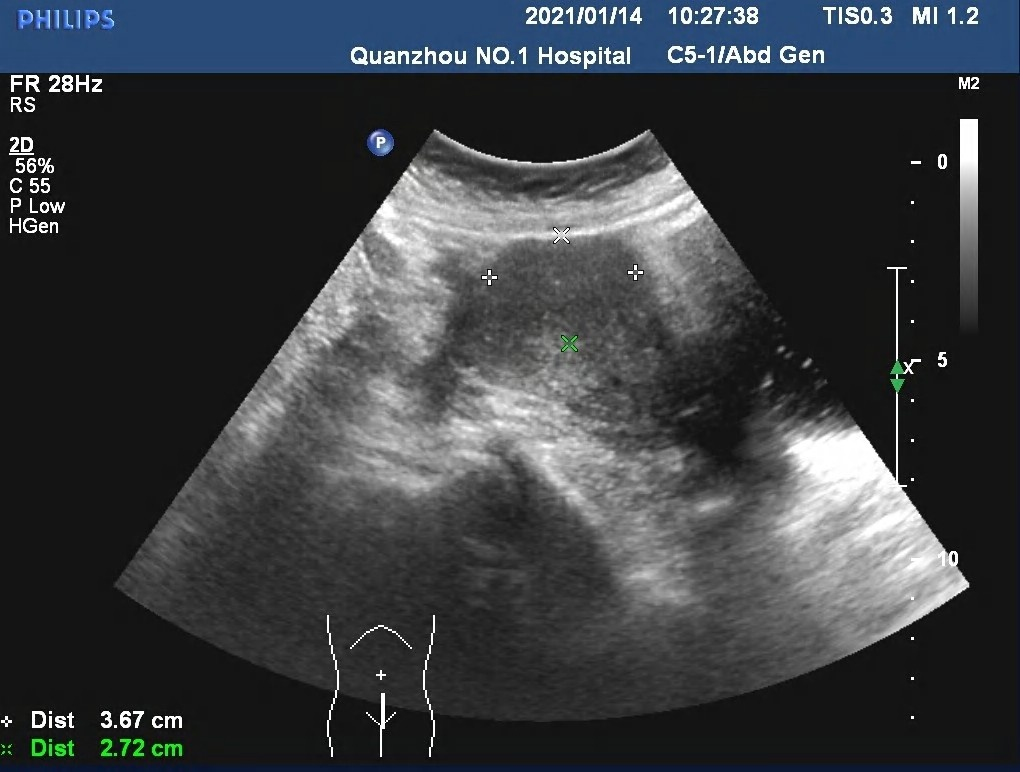肌瘤: (482, 237, 644, 344)
